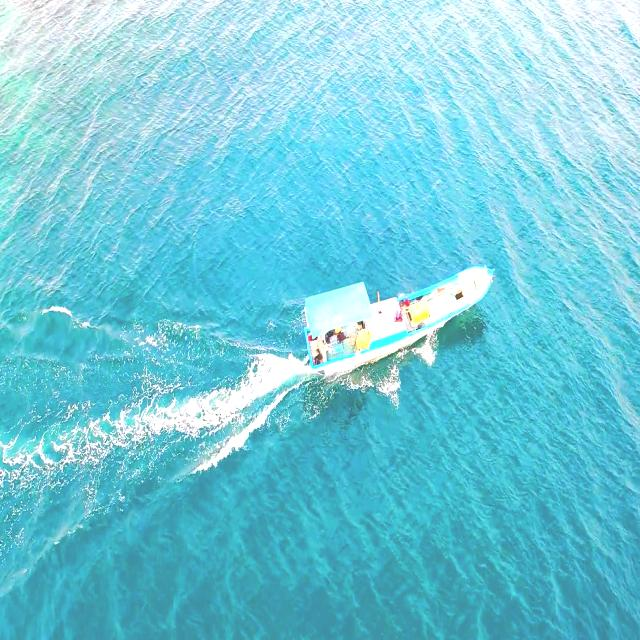ship: (302, 243, 510, 379)
